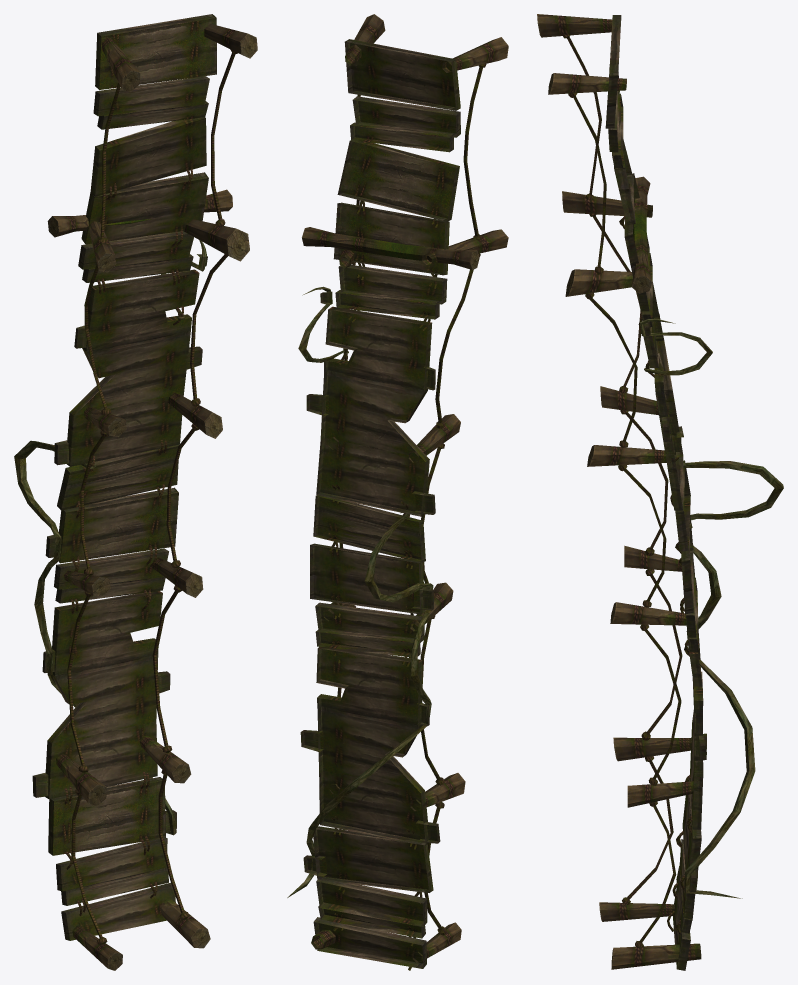
Rendered from jingling01_qiao05c.obj.
3 views of the same model, side by side, from view 1: azimuth 30°, elevation 25°; view 2: azimuth 150°, elevation 25°; view 3: azimuth 270°, elevation 25° (orthographic). The views are drawn at different scales.
Parts seen in each view (by area): view 1: jingling01_qiao05b; view 2: jingling01_qiao05b; view 3: jingling01_qiao05b.
Boxes of the visible parts, box(x1,y1,x2,y2) form: jingling01_qiao05b: box(14, 14, 257, 970); jingling01_qiao05b: box(287, 14, 508, 970); jingling01_qiao05b: box(537, 14, 783, 970).
Size of the model in its own units: 463 by 2347 by 578.
